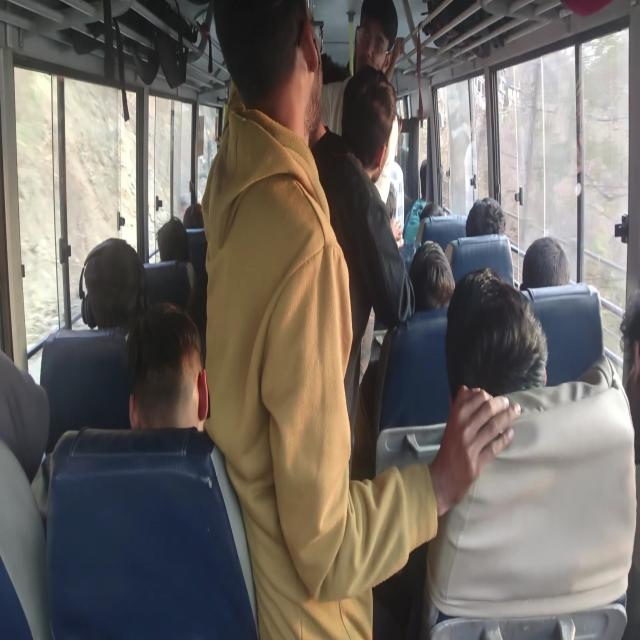person: (202, 1, 524, 638), (420, 266, 637, 638), (308, 64, 415, 476), (445, 266, 548, 402), (319, 0, 405, 138), (124, 300, 209, 432), (79, 237, 148, 330), (408, 240, 455, 312), (520, 235, 570, 289), (465, 196, 506, 236), (156, 216, 190, 262)
